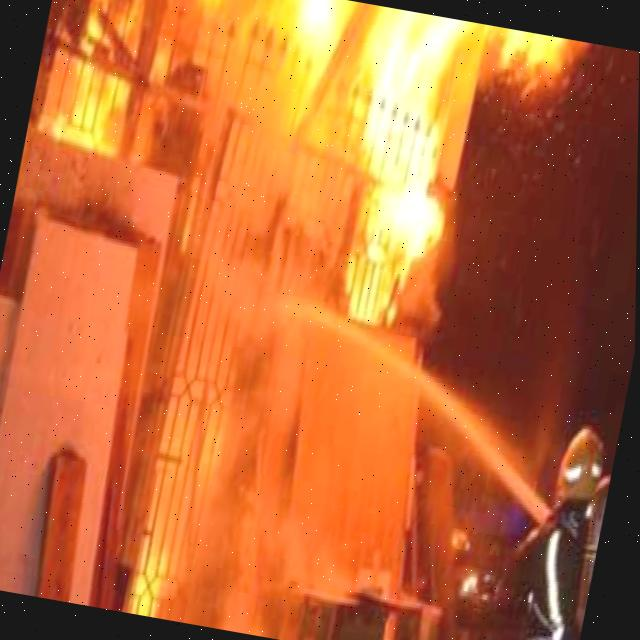fire: (28, 0, 568, 617)
